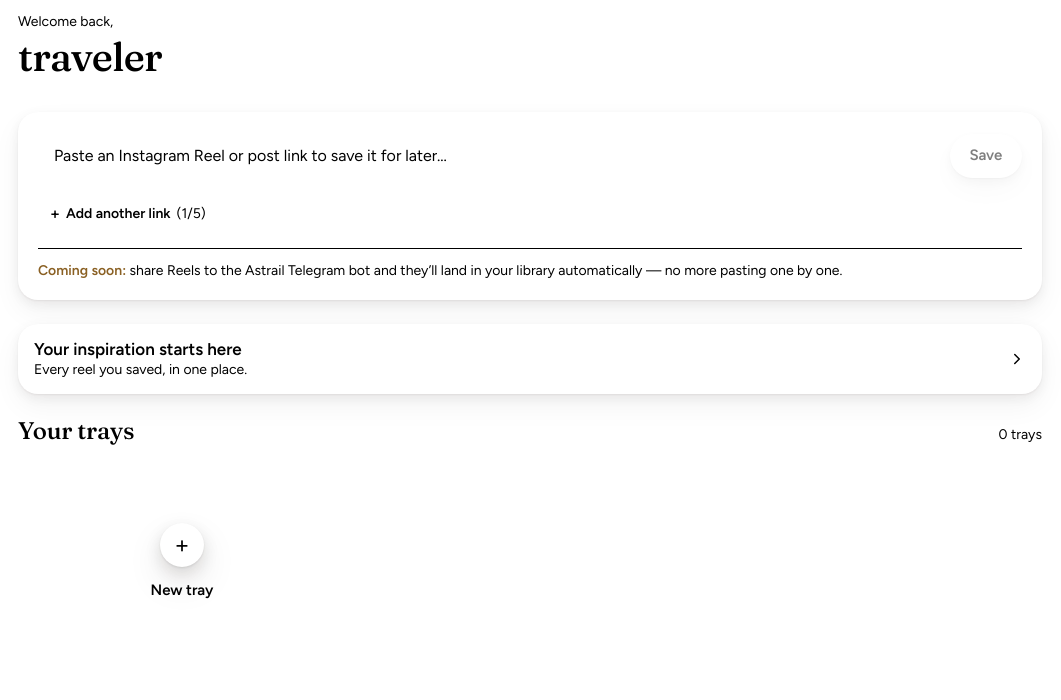
Scenario: TraysScreen › renders a captured error message (a mapped Error) in the status banner
Type "https://www.instagram.com/p/DQwdZ8ZCWZx/" into the field named "paste a reel or post link" at (490, 156), box [38,132,942,180]
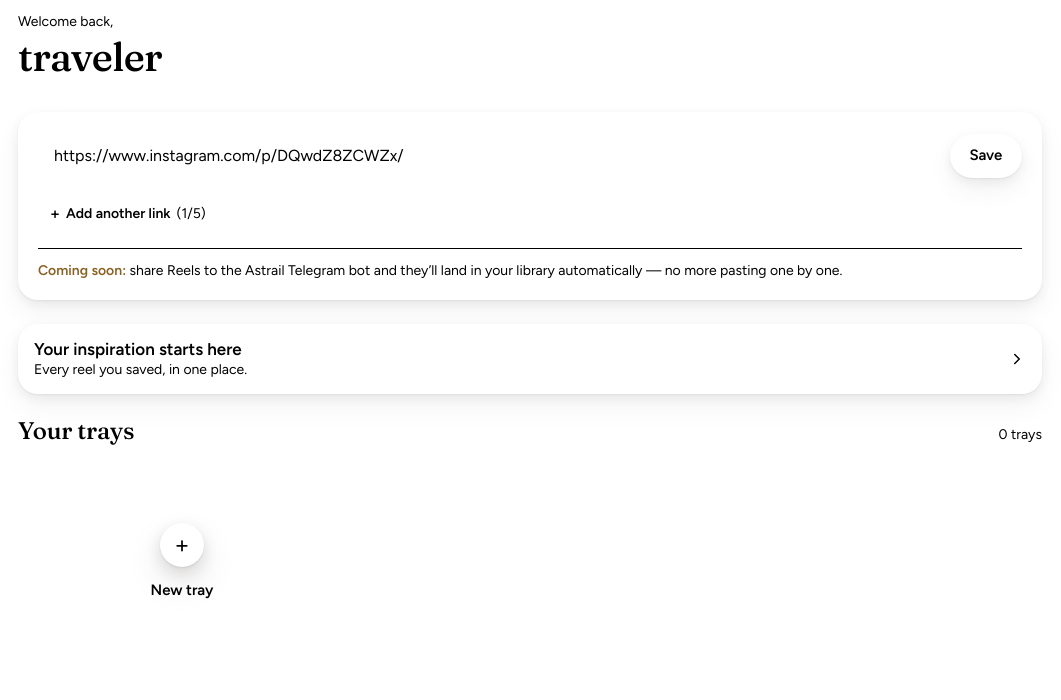
Click the button "Save" at (986, 156), box [950,134,1022,178]
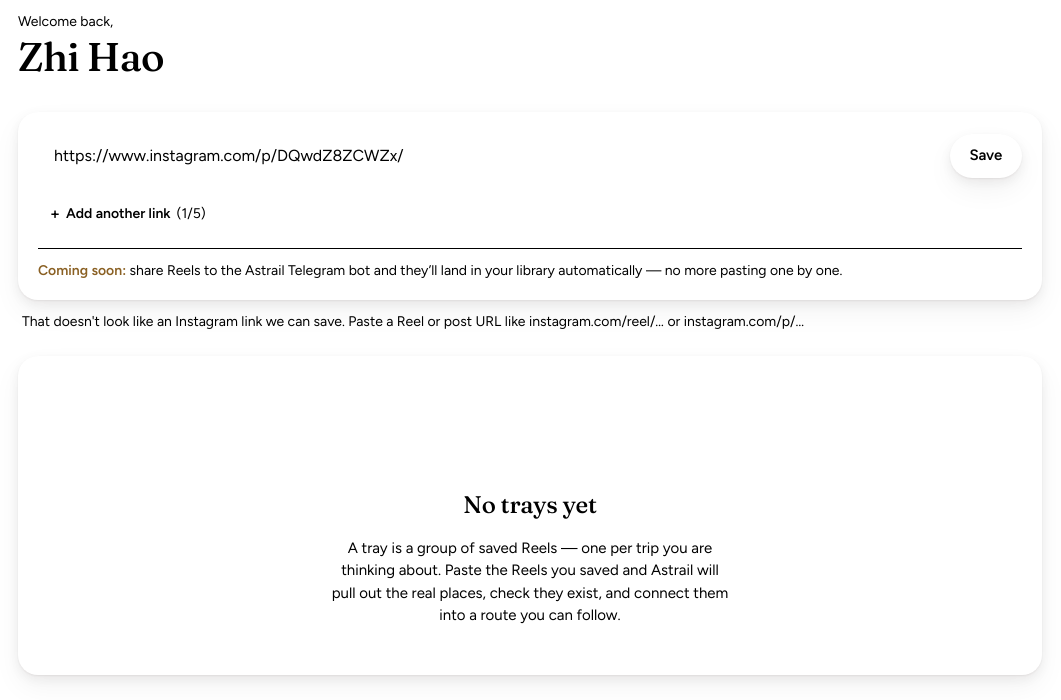
Result: the message shows "That doesn't look like an Instagram link we can save. Paste a Reel or post URL like instagram.com/reel/… or instagram.com/p/…" at [22,313,804,330]
